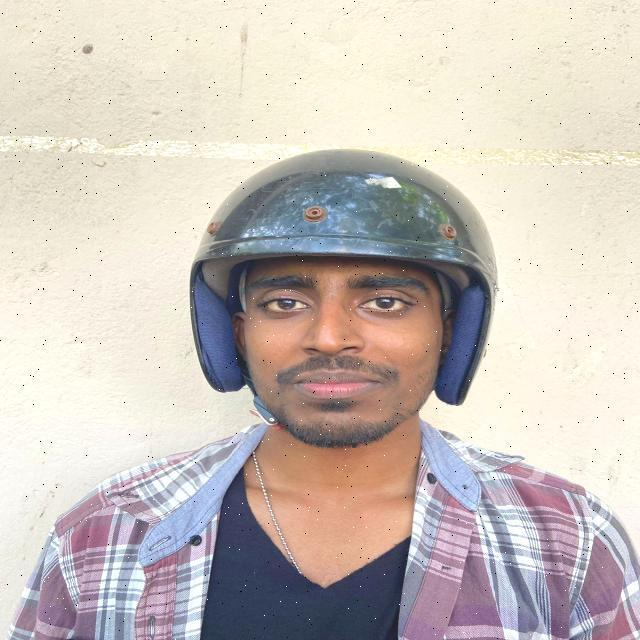helmet: (187, 150, 496, 449)
